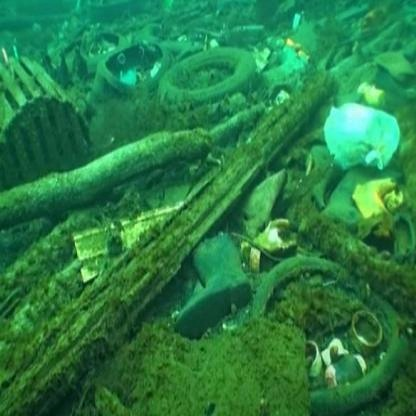plastic: (176, 218, 252, 334), (317, 80, 406, 170)
tire: (260, 257, 416, 416), (159, 47, 263, 118)
